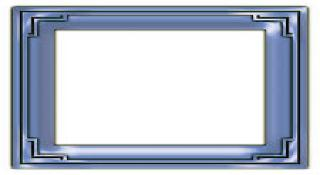Square: (12, 5, 308, 169)
